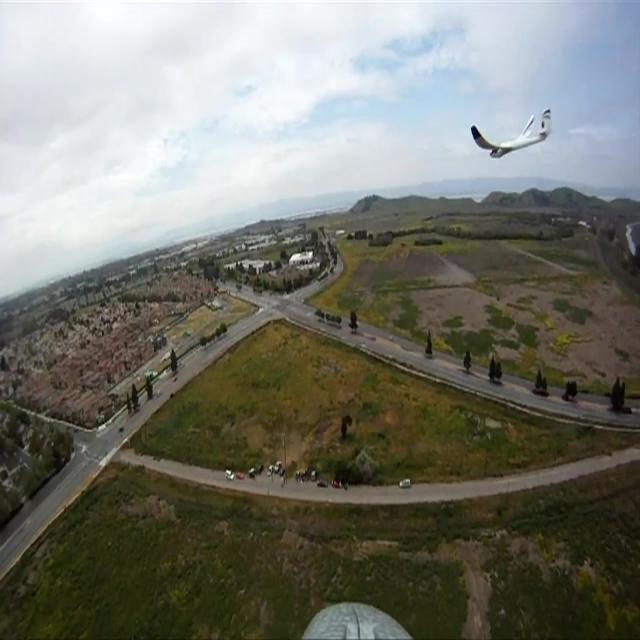iha: (501, 106, 522, 162)
